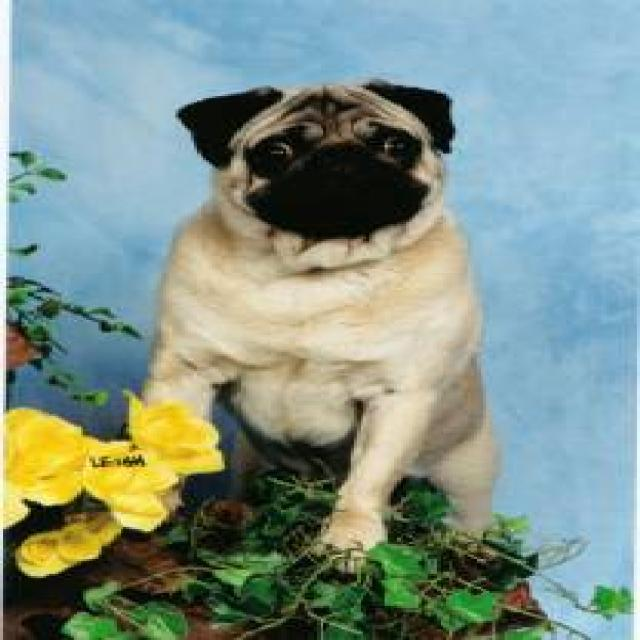dog-pug: (138, 75, 511, 553)
